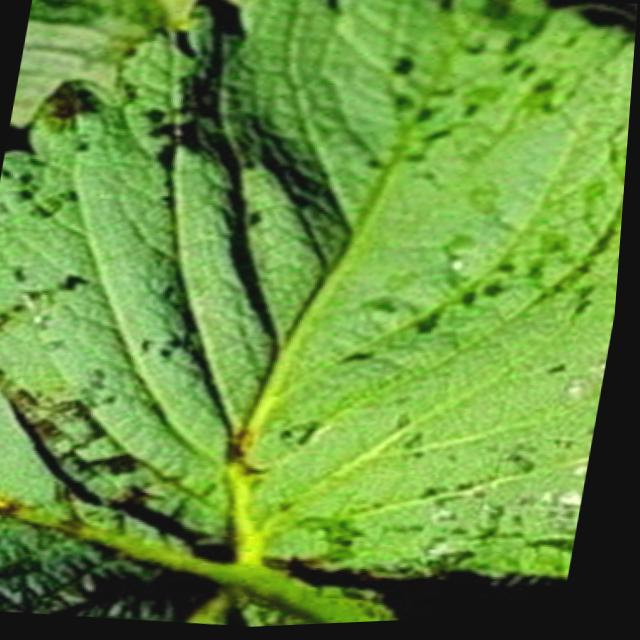Angular Leafspot: (0, 0, 638, 584), (74, 572, 407, 629)
